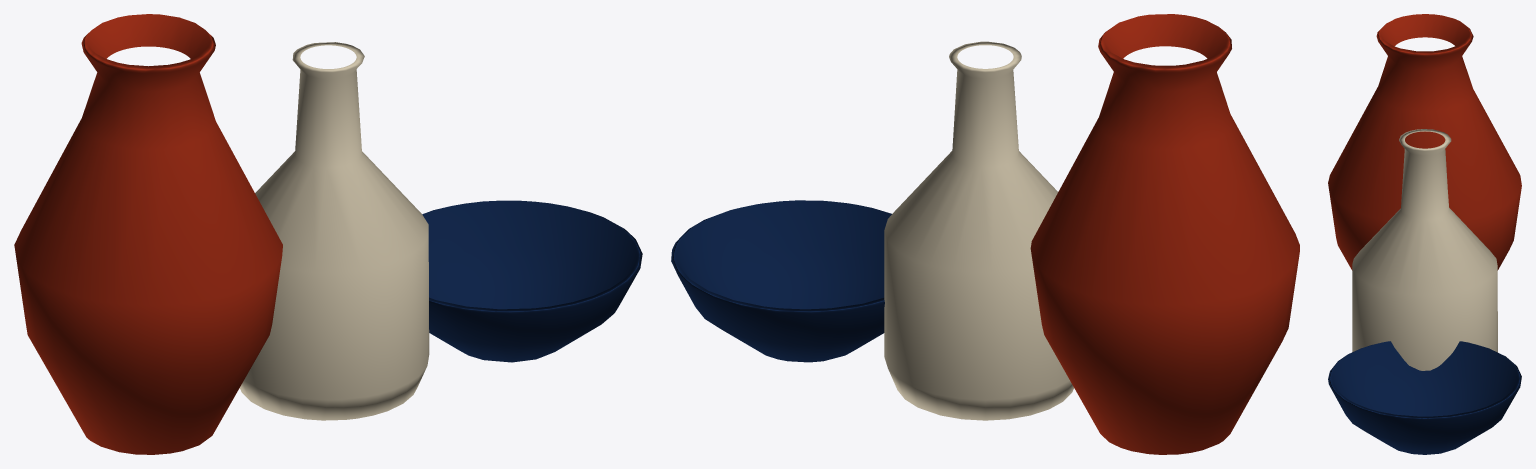
The model's file is ceramic-vase-collection.glb.
The picture shows the model from 3 angles, left to right: view 1: azimuth 30°, elevation 25°; view 2: azimuth 150°, elevation 25°; view 3: azimuth 270°, elevation 25°; orthographic projection. The views are drawn at different scales.
Parts seen in each view (by area): view 1: Amphora, Bottle, Bowl; view 2: Amphora, Bottle, Bowl; view 3: Amphora, Bottle, Bowl.
Part boxes in pixels (x1=…): Amphora: x1=14, y1=14, x2=282, y2=454; Bottle: x1=240, y1=42, x2=429, y2=420; Bowl: x1=422, y1=200, x2=642, y2=362; Amphora: x1=1030, y1=14, x2=1299, y2=454; Bottle: x1=884, y1=41, x2=1073, y2=420; Bowl: x1=671, y1=200, x2=891, y2=362; Amphora: x1=1328, y1=14, x2=1521, y2=270; Bottle: x1=1352, y1=129, x2=1497, y2=370; Bowl: x1=1328, y1=341, x2=1521, y2=454.
Bounding box in the file's own units: 1.22 × 0.76 × 0.4795.
